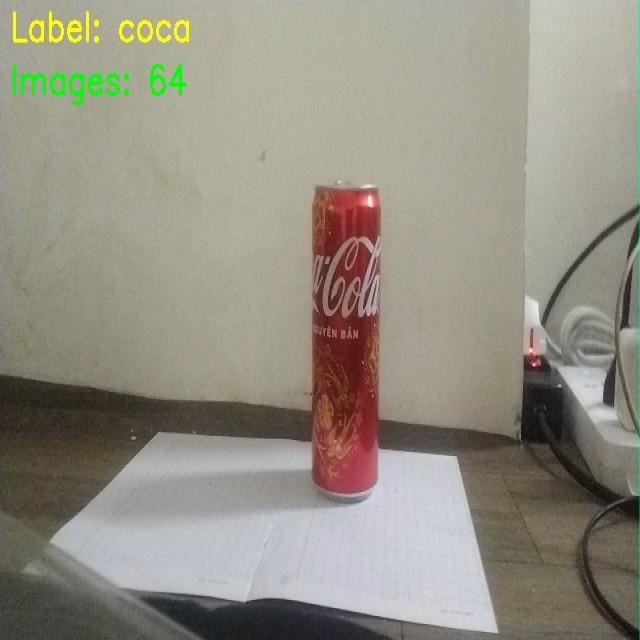Coca: (291, 157, 454, 520)
